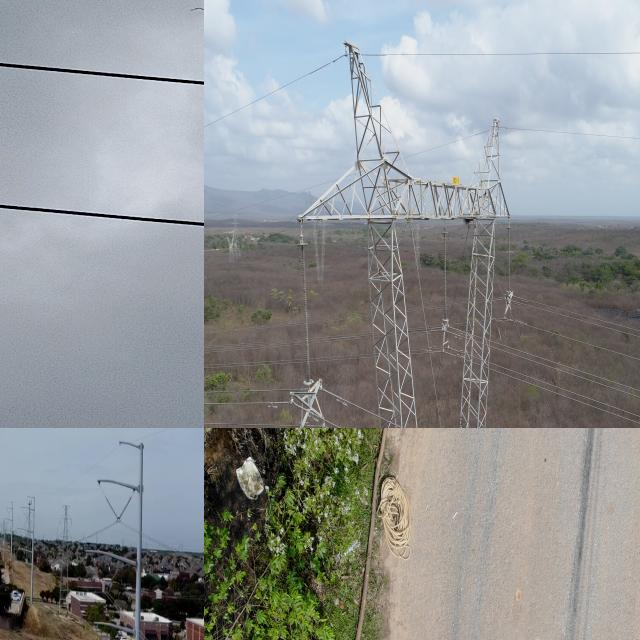杆塔: (302, 51, 522, 428), (56, 501, 73, 615)
正常电缆: (204, 52, 342, 138), (498, 370, 640, 426), (367, 42, 640, 71), (501, 366, 640, 418), (503, 349, 640, 399), (507, 344, 640, 392), (515, 319, 640, 363), (519, 301, 640, 339), (523, 296, 640, 333), (507, 124, 640, 144), (328, 385, 378, 422), (204, 417, 335, 428), (204, 396, 291, 408), (204, 387, 292, 395)
正常绝缘子: (294, 216, 324, 417), (438, 184, 457, 353), (103, 493, 122, 525), (116, 495, 134, 524)
